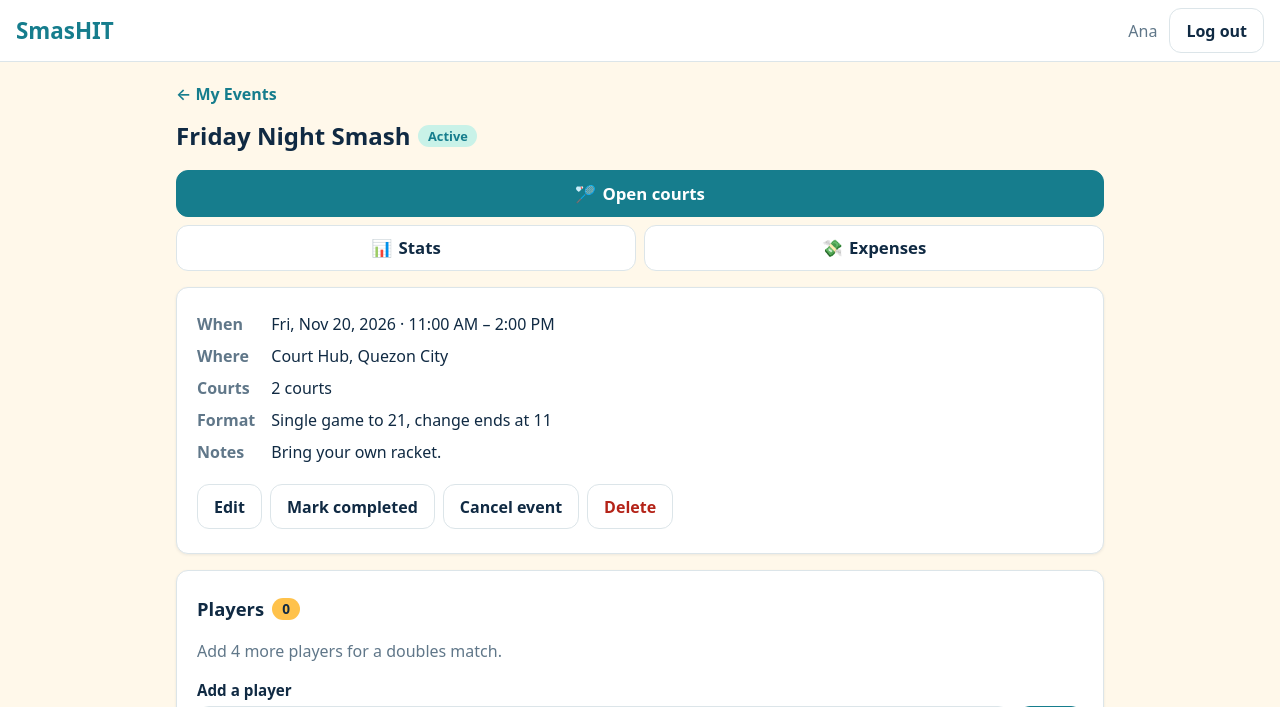
Scenario: Event page › marks the event completed after asking
Click the button "Mark completed". click: point(352, 506)
box: [270,484,435,529]
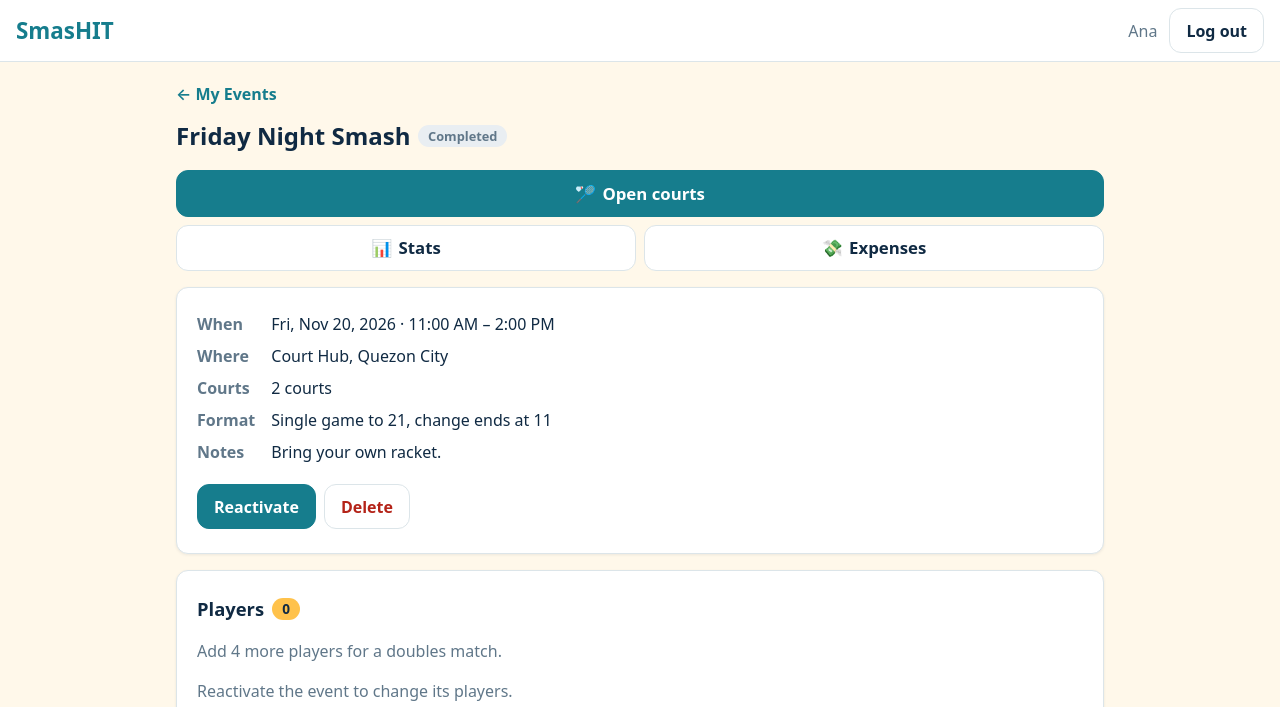
expect the text "Completed" is shown: met, box [418,125,507,147]
expect the button "Reactivate" is shown: met, box [197,484,316,529]
expect the link "Edit" is gone: met
